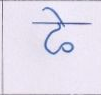e_matra: (43, 7, 66, 22)
